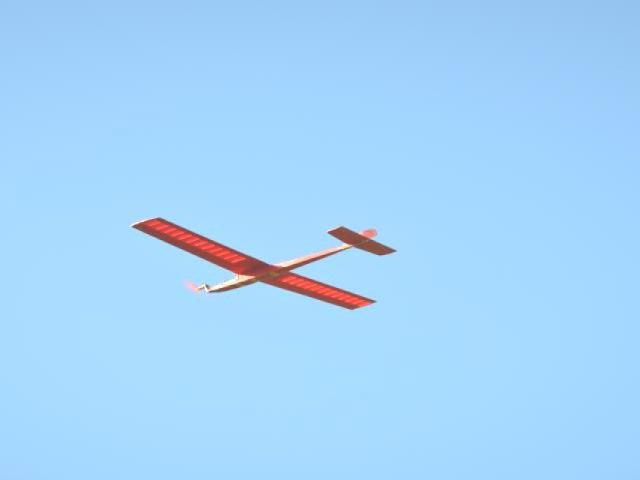iha: (121, 207, 402, 317)
